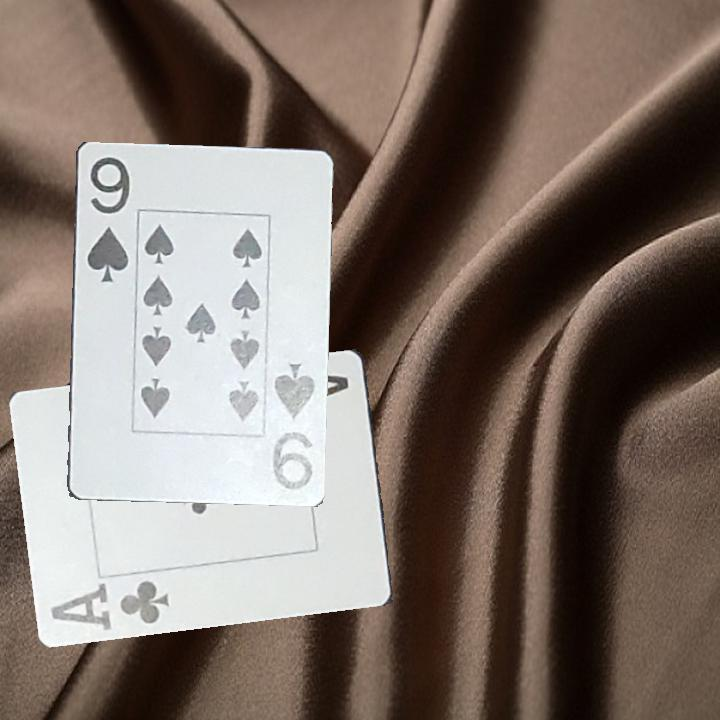9s: (267, 359, 318, 492), (83, 153, 133, 285)
Ac: (47, 576, 173, 633)
